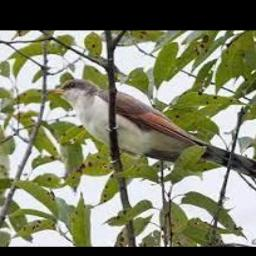Cuckoo: (41, 79, 256, 182)
